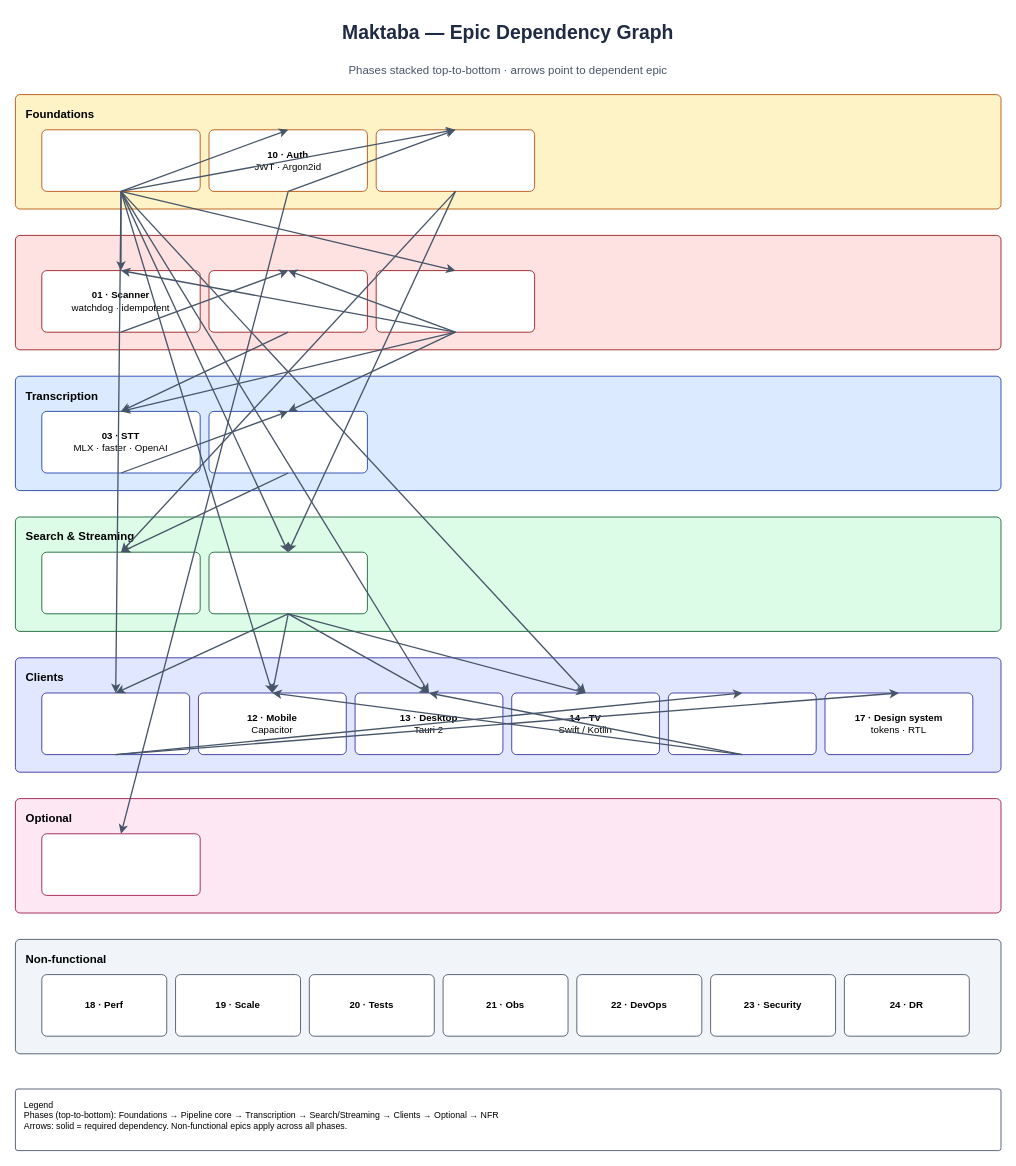
The diagram is 1016 pixels wide and 1166 high, and some of its shapes have lost their labels. The box of each missing label's shape, as (x1, y1, x2, y2) in pixels:
02 · Audio FFmpeg extract: (208, 270, 367, 332)
04 · Subs/diar WhisperX · pyannote: (208, 411, 367, 473)
05 · Search FTS + vectors: (41, 551, 200, 614)
06 · Job Queue SKIP LOCKED · NOTIFY: (375, 270, 535, 332)
07 · API Server chi · gqlgen · sqlc: (41, 129, 200, 191)
08 · Streaming HLS · DASH · range: (208, 551, 367, 614)
09 · Libraries scopes · access: (375, 129, 535, 191)
11 · Web (PWA) React · Vidstack: (41, 692, 190, 755)
15 · Discovery mDNS · QR: (667, 692, 816, 755)
16 · Subscriptions Billing · paywall: (41, 833, 200, 895)
Pipeline core: (15, 235, 1001, 350)
